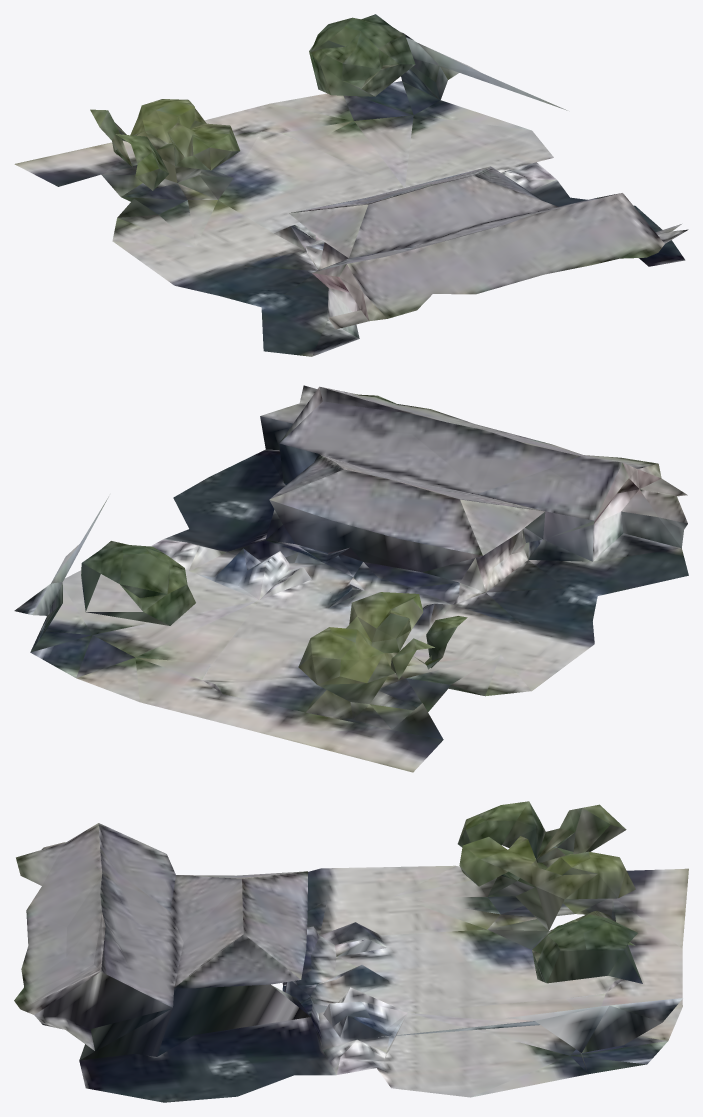
The model's file is Tile_+006_+006.glb.
3 views of the same model, one above another, from view 1: azimuth 30°, elevation 25°; view 2: azimuth 150°, elevation 25°; view 3: azimuth 270°, elevation 25° (orthographic). The views are drawn at different scales.
Parts seen in each view (by area): view 1: rtc; view 2: rtc; view 3: rtc.
Part boxes in pixels (x1=…): rtc: x1=14, y1=14, x2=688, y2=356; rtc: x1=14, y1=385, x2=688, y2=772; rtc: x1=14, y1=801, x2=688, y2=1102.
Bounding box in the file's own units: 48.27 × 11.07 × 58.86.
Materials: 1 (1 with a texture image).
